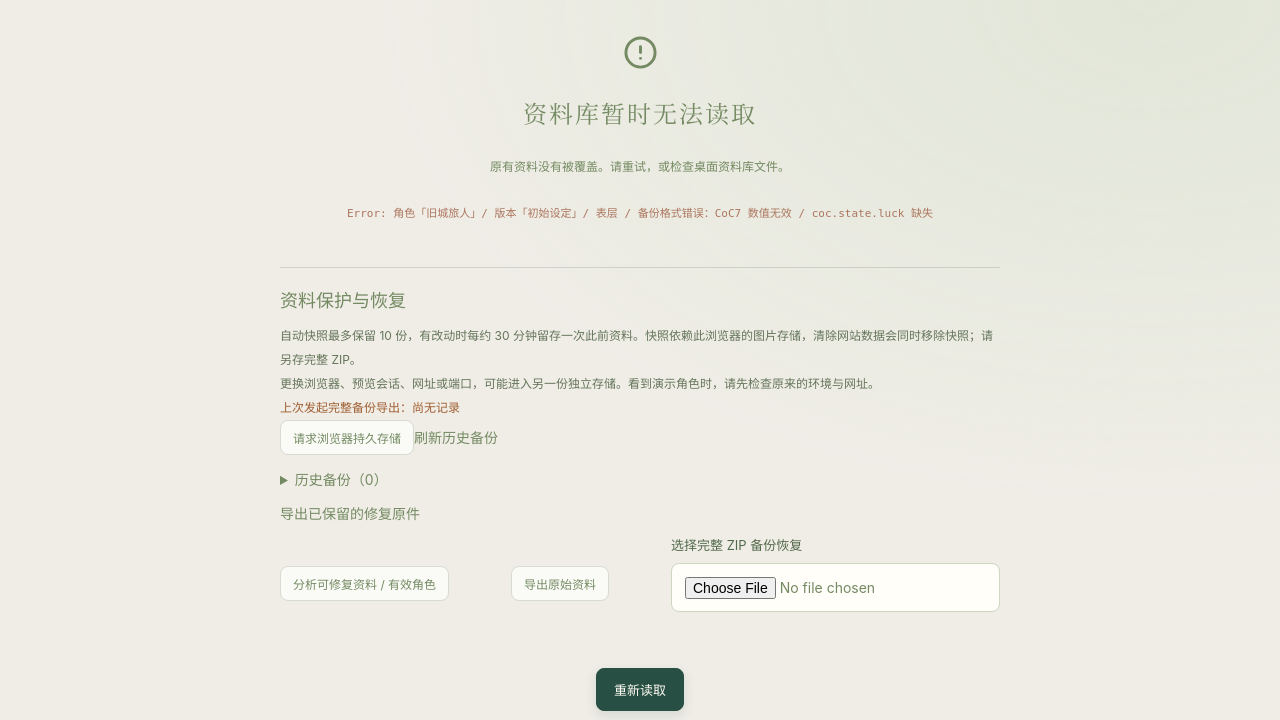
Scenario: 读取失败页面可预览修复，确认后重新进入书架并保留原件
Click the button "分析可修复资料 / 有效角色" at {"x": 365, "y": 583}, box [280, 566, 449, 601]
(page scrolled)
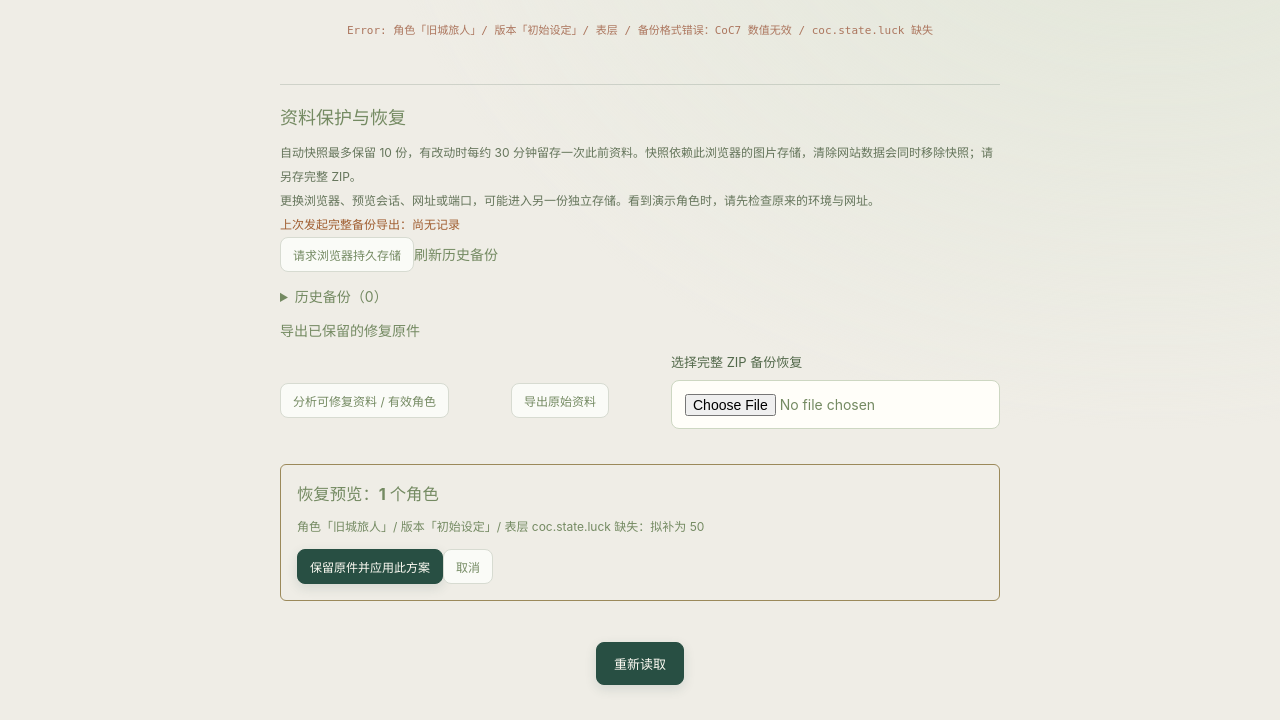
Expected: the text "角色「旧城旅人」/ 版本「初始设定」/ 表层 coc.state.luck 缺失：拟补为 50" is shown, [297, 519, 704, 534]
Click the button "保留原件并应用此方案" at {"x": 370, "y": 567}, box [297, 549, 443, 584]
(page scrolled)
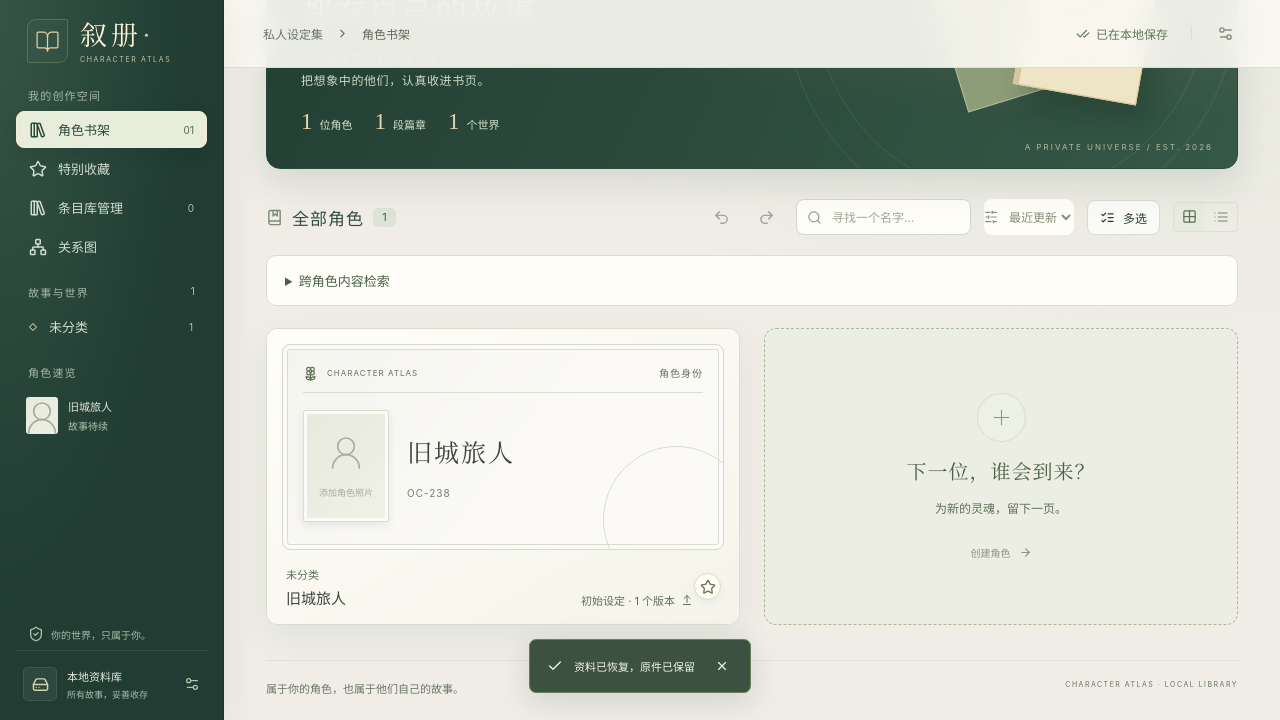
Expected: the button with aria-label "打开旧城旅人的档案" is shown, [267, 329, 739, 624]
